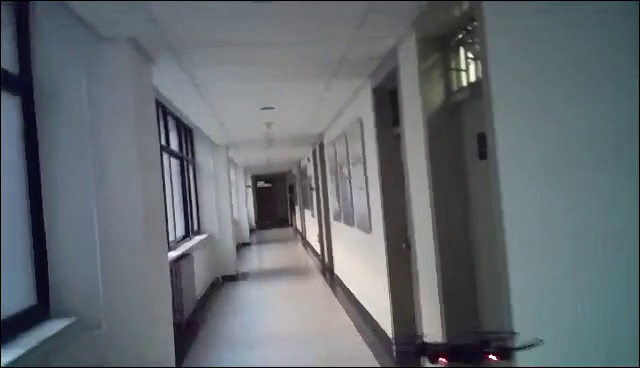drone: (381, 327, 546, 368)
